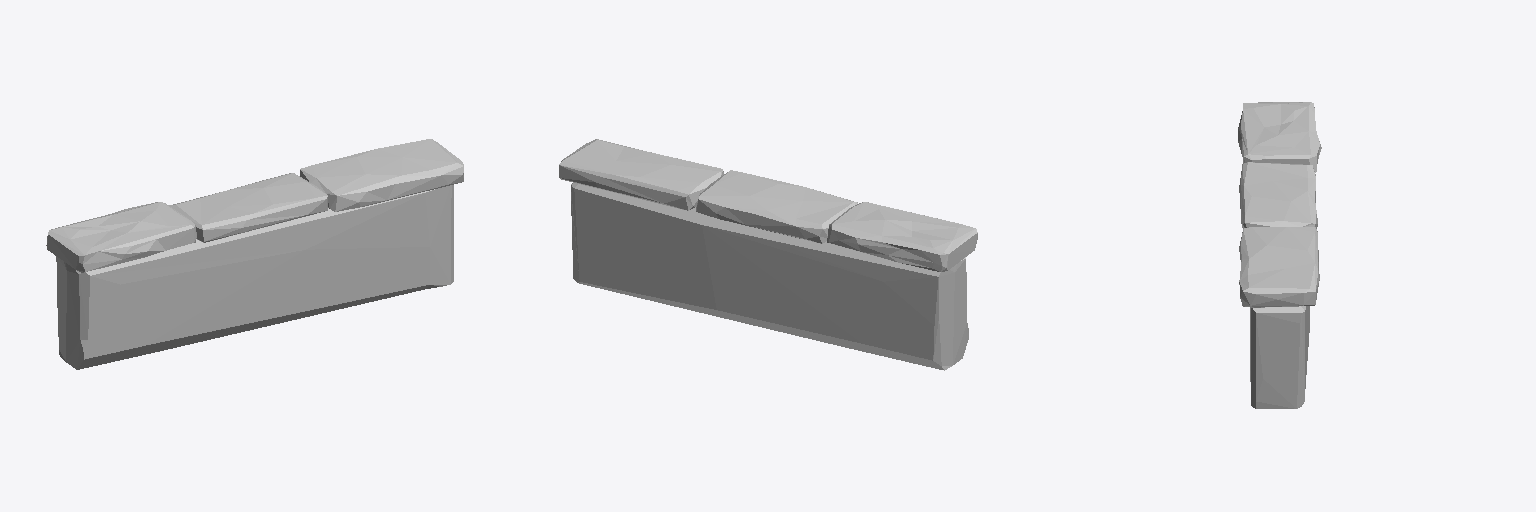
File: stone_wall.obj
The picture shows the model from 3 angles: view 1: azimuth 30°, elevation 25°; view 2: azimuth 150°, elevation 25°; view 3: azimuth 270°, elevation 25°; orthographic projection.
Parts seen in each view (by area): view 1: Cube.006_Cube.069; view 2: Cube.006_Cube.069; view 3: Cube.006_Cube.069.
Part boxes in pixels (x1,y1,x2,y2): Cube.006_Cube.069: (46,139,463,369); Cube.006_Cube.069: (559,139,977,370); Cube.006_Cube.069: (1238,102,1321,408).
Size of the model in its own units: 3.33 by 1.05 by 0.6217.